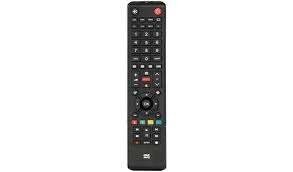remote control: (129, 6, 166, 172)
